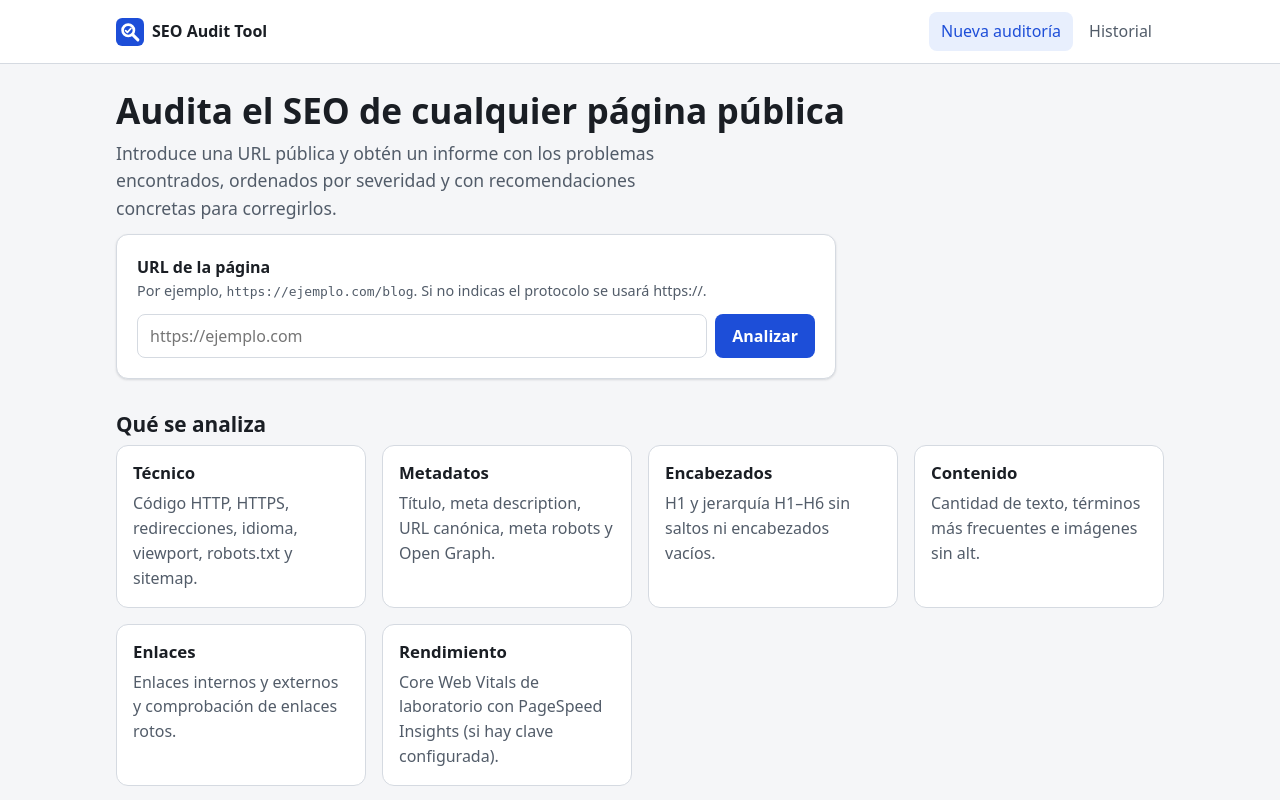
Test: App › navigates to the history and moves focus to the main content
The image size is (1280, 800).
What coordinates should you click on to do the following:
click the link "Historial"
I would click on:
 (1120, 31)
Its box is [1089, 20, 1152, 42].
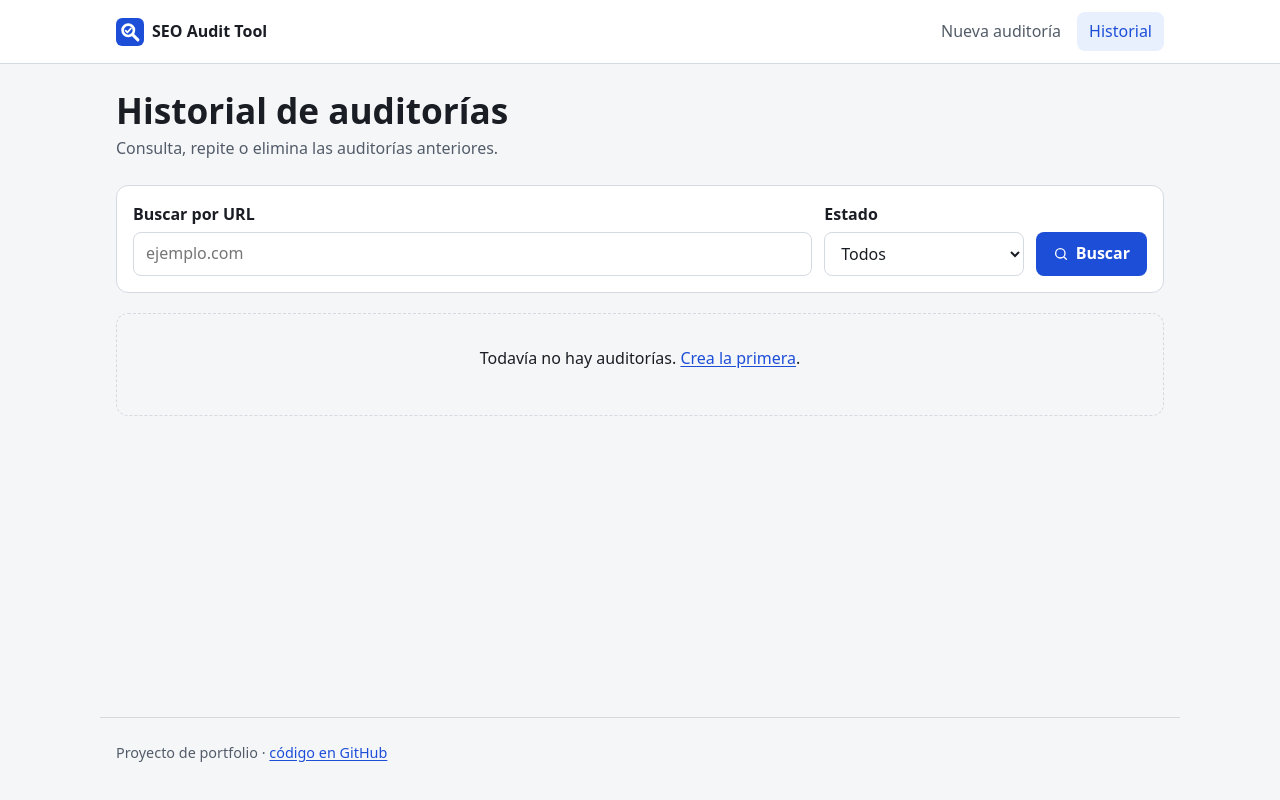
expect the heading "Historial de auditorías" is shown: met, box [116, 86, 508, 134]
